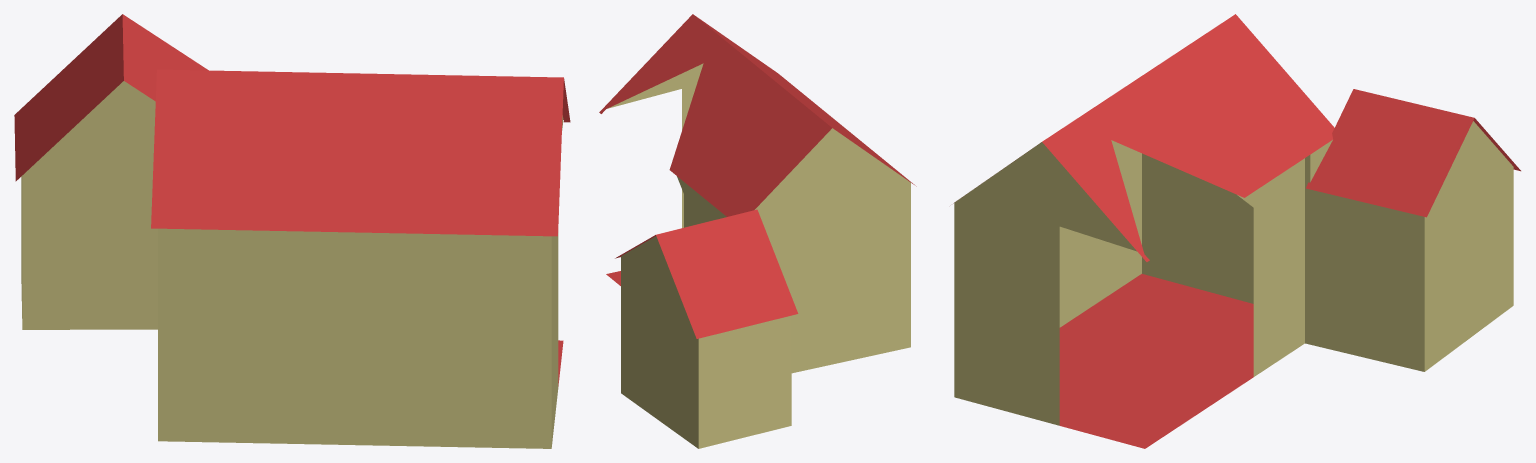
3 views of the same model, side by side, from view 1: azimuth 30°, elevation 25°; view 2: azimuth 150°, elevation 25°; view 3: azimuth 270°, elevation 25° (orthographic). The views are drawn at different scales.
Bounding box in the file's own units: 18.27 × 24.39 × 13.2.
